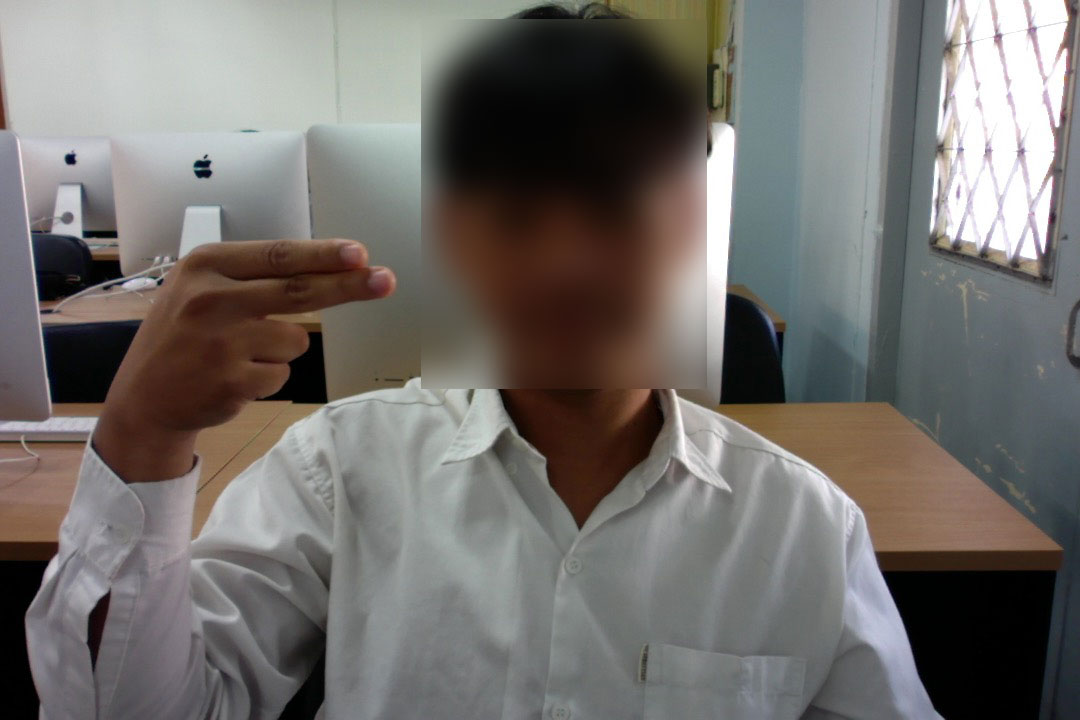hor: (90, 229, 411, 436)
